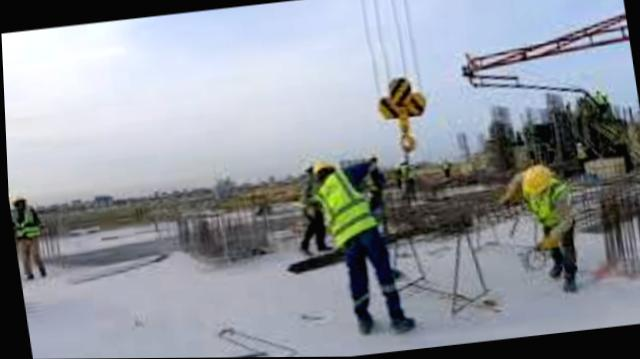helmet: (519, 163, 548, 192), (310, 160, 336, 175), (297, 153, 318, 169), (11, 189, 25, 201), (594, 89, 600, 95), (398, 159, 406, 163), (577, 143, 582, 148)
vest: (315, 174, 381, 248), (524, 180, 573, 235), (9, 205, 38, 239), (299, 173, 320, 203), (396, 163, 411, 184), (592, 95, 609, 109)
